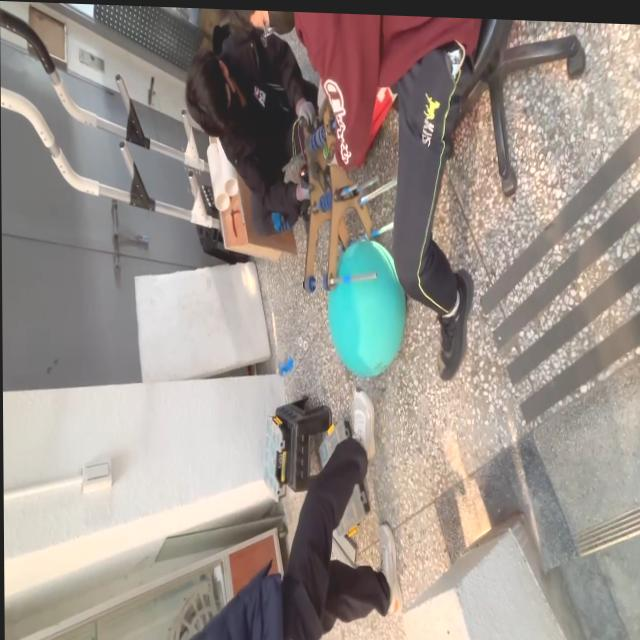ALGAE: (326, 235, 408, 381)
